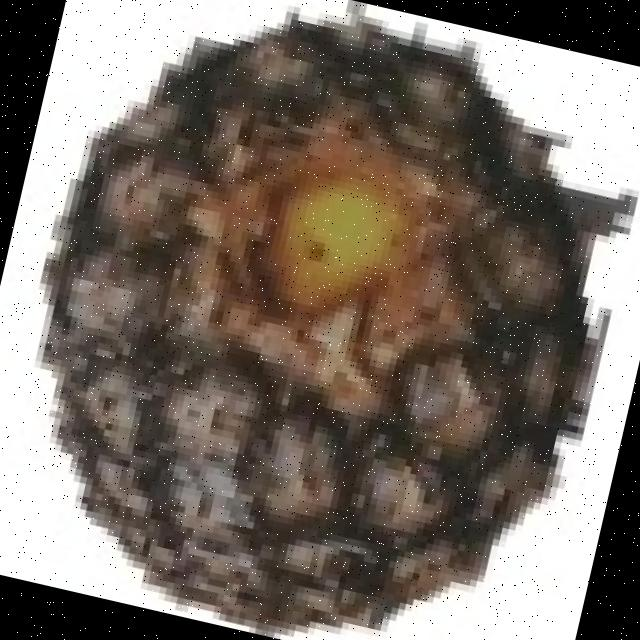pineapple: (34, 29, 615, 633)
